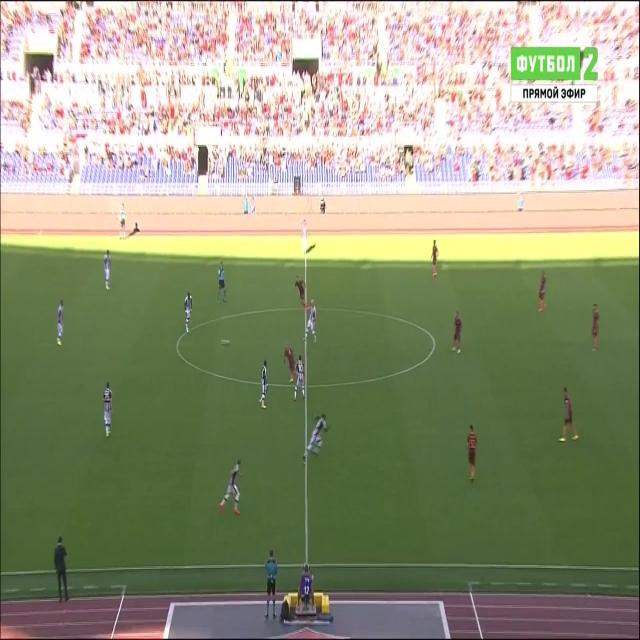Ball: (220, 334, 230, 350)
Player: (303, 411, 333, 466), (219, 458, 244, 520), (559, 386, 580, 446), (463, 423, 482, 488), (302, 292, 318, 348), (588, 298, 604, 353), (255, 360, 270, 411), (103, 380, 116, 438), (293, 354, 306, 406), (536, 265, 548, 319), (282, 338, 296, 384), (181, 290, 195, 335), (451, 309, 464, 356), (55, 296, 66, 350), (428, 237, 441, 280), (294, 275, 308, 308), (102, 250, 112, 296), (302, 216, 309, 253)
Referee: (215, 258, 228, 305)
